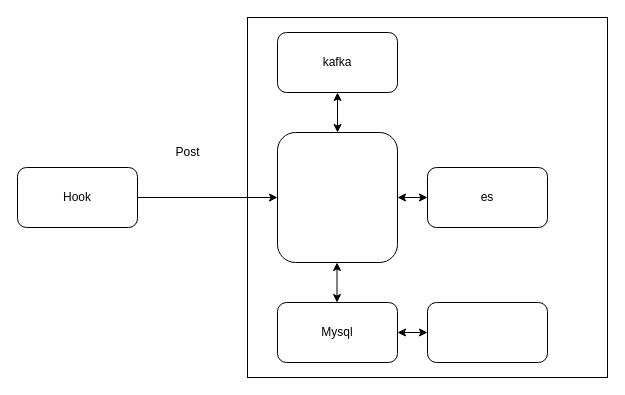
The diagram is 625 pixels wide and 395 high, and some of its shapes have lost their labels. The centre of each missing label's shape, as x and y in pixels:
"Alert Gateway Rule Engine" goes at [337,197].
"Web-Ui" goes at [487,332].
